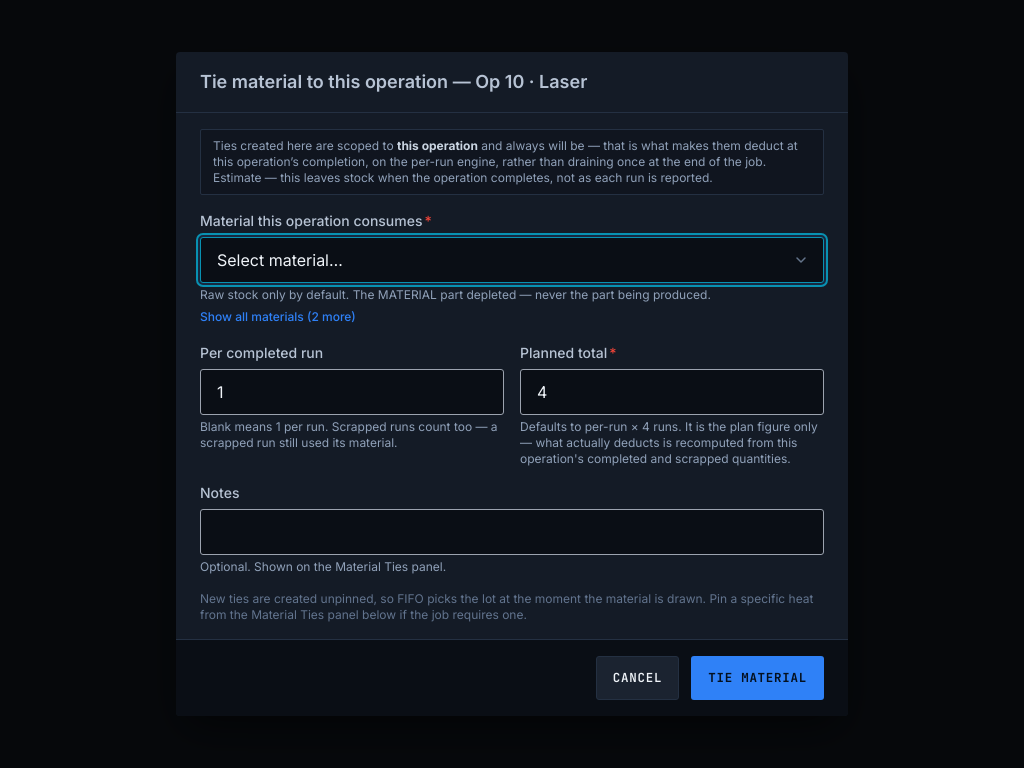
Test: OperationMaterialTieModal: raw stock by default, everything else one click away › reveals the consumables and hardware the toggle promises
Expected: the dropdown labelled "Material this operation consumes*" is shown, [200,237,824,283]
Step 1. Click the button "Show all materials (2 more)" → (278, 317), box [200,309,356,325]
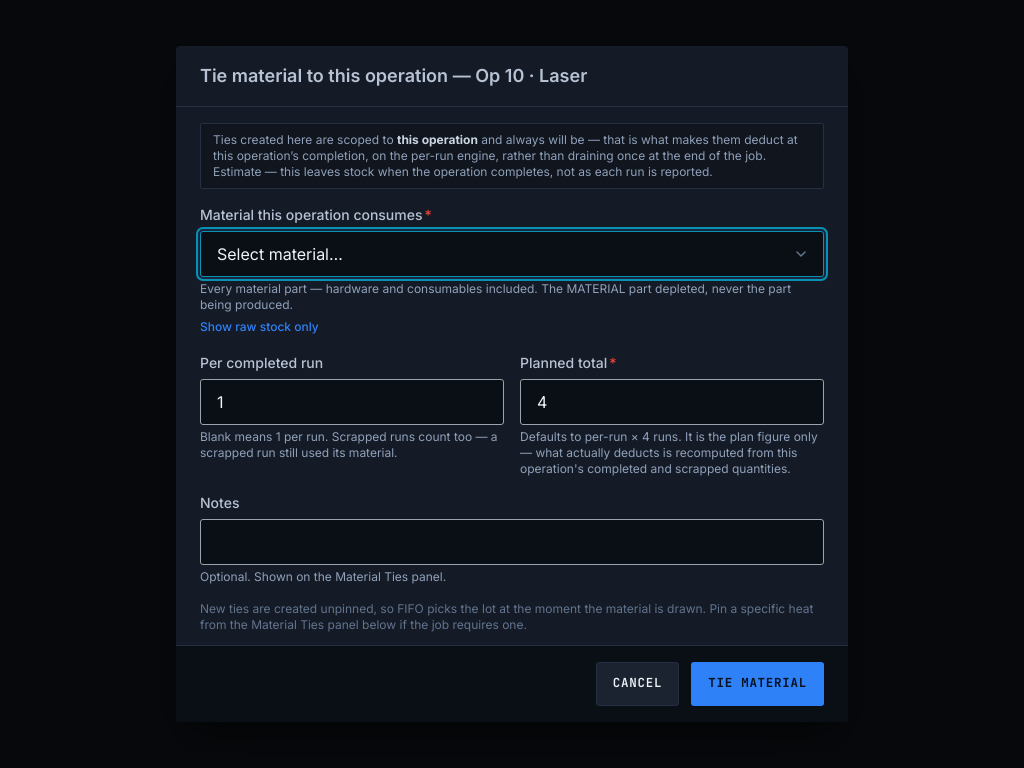
Expected: the text "hardware and consumables included" is shown, [200,281,791,312]
Expected: the button "Show raw stock only" is shown, [200,319,319,335]
